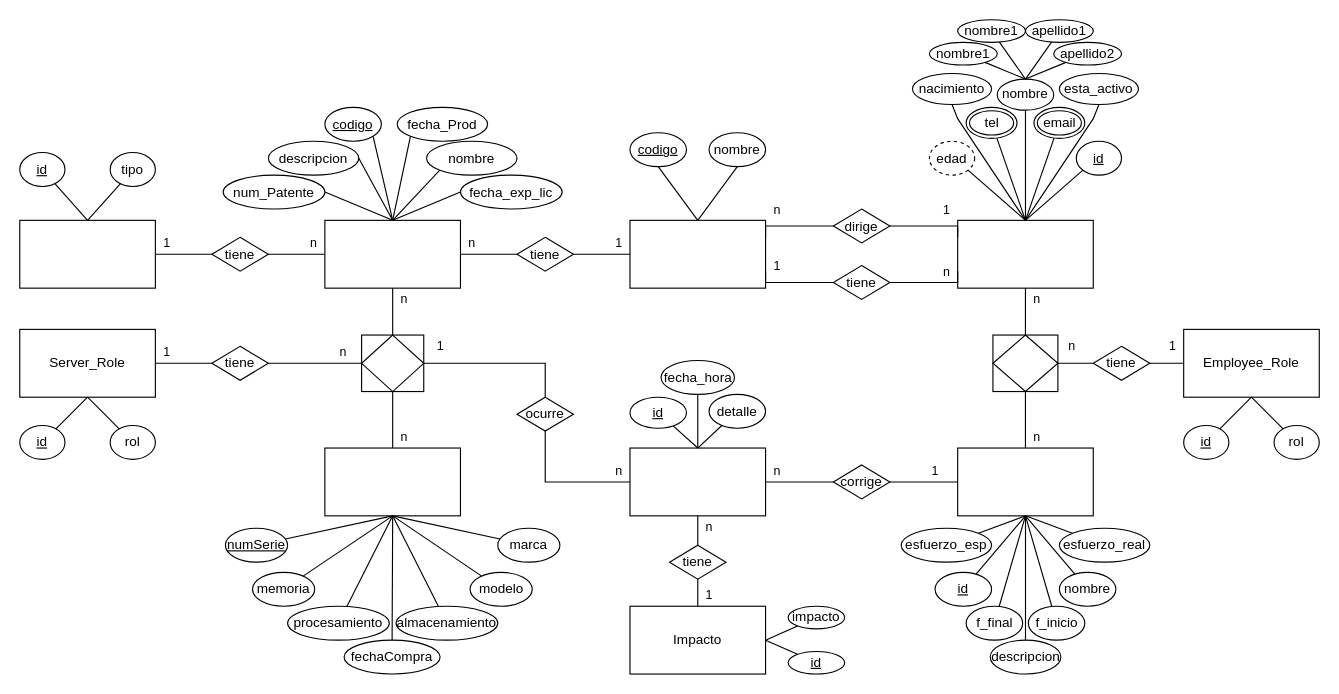
Image size: 1339x694. Some labels were removed from this diagram. Here are the shapes that lost their labels. From the top down, the box of each, then its label:
(19, 219, 155, 288): App_Type
(324, 219, 460, 288): App
(629, 219, 766, 288): Departamento
(957, 219, 1093, 288): Empleado
(360, 334, 424, 392): hosted
(992, 334, 1058, 392): desarrollo
(324, 447, 460, 516): Servidor
(629, 447, 766, 516): Error
(957, 447, 1093, 516): Proyecto_Correcccion
